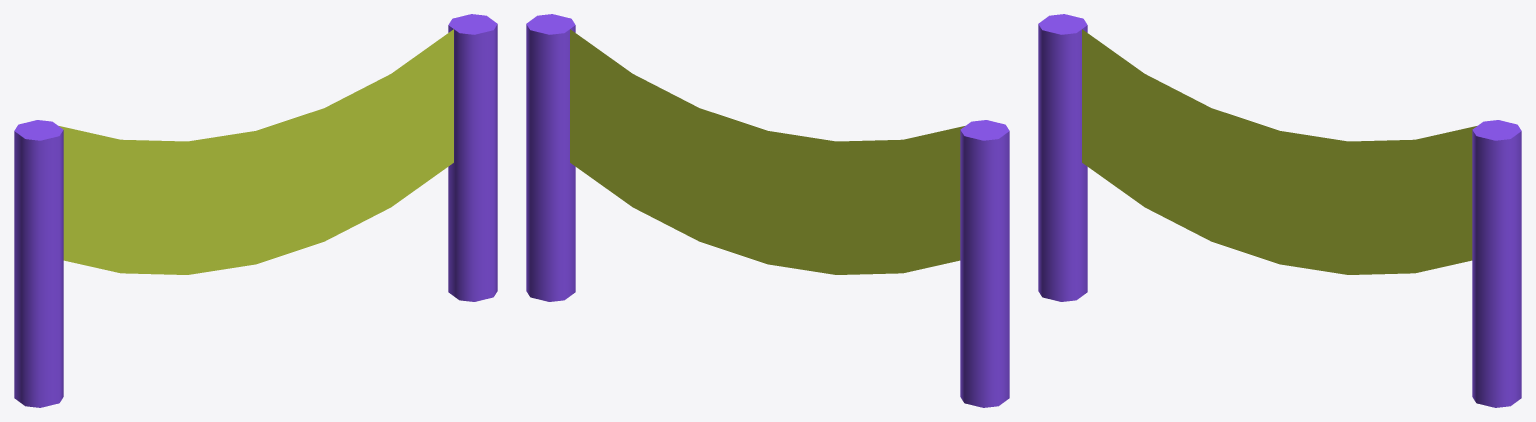
File: banner_hanging.fbx
3 views of the same model, side by side, from view 1: azimuth 30°, elevation 25°; view 2: azimuth 150°, elevation 25°; view 3: azimuth 330°, elevation 25° (orthographic).
Parts seen in each view (by area): view 1: banner_hanging; view 2: banner_hanging; view 3: banner_hanging.
Part boxes in pixels (x1=…): banner_hanging: x1=14, y1=14, x2=497, y2=407; banner_hanging: x1=526, y1=14, x2=1009, y2=407; banner_hanging: x1=1038, y1=14, x2=1521, y2=407.
Bounding box in the file's own units: 9.25 × 5 × 0.75.
